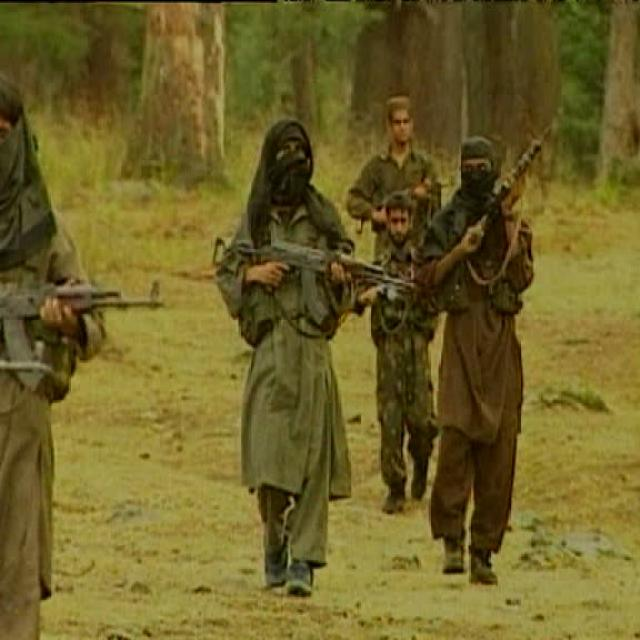Forest: (0, 0, 640, 640)
Militant: (203, 125, 372, 619), (426, 136, 557, 588), (0, 67, 98, 640), (359, 78, 461, 514)
